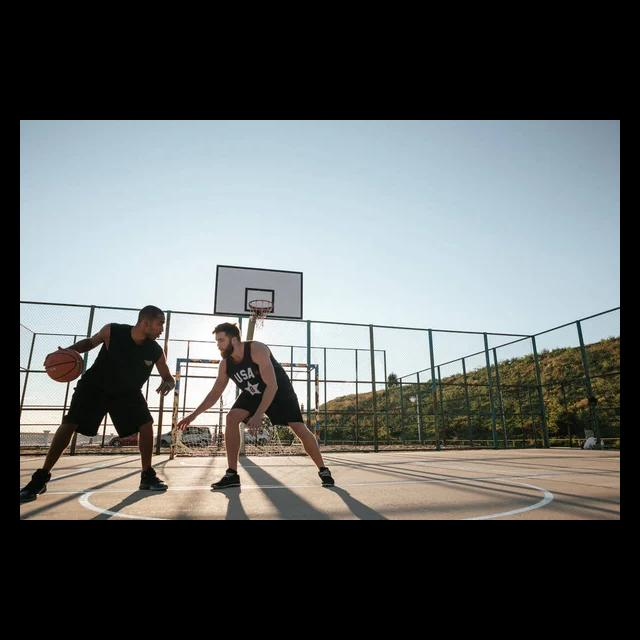basketball: (45, 347, 81, 383)
hoop: (250, 299, 271, 328)
